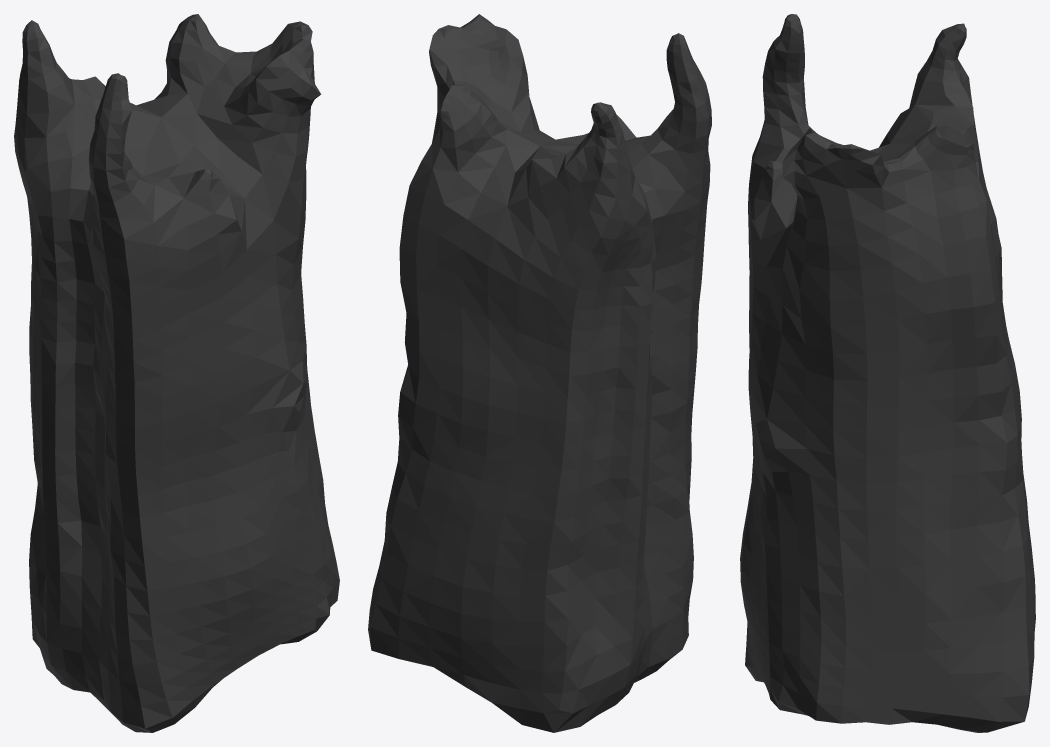
File: R_max_M1.glb
The picture shows the model from 3 angles, left to right: view 1: azimuth 30°, elevation 25°; view 2: azimuth 150°, elevation 25°; view 3: azimuth 270°, elevation 25°; orthographic projection. The views are drawn at different scales.
Visible parts, largest first — view 1: R_max_M1; view 2: R_max_M1; view 3: R_max_M1.
Part boxes in pixels (x1,y1,x2,y2): R_max_M1: (14, 14, 339, 732); R_max_M1: (368, 14, 711, 732); R_max_M1: (740, 14, 1035, 732).
Bounding box in the file's own units: 0.4627 × 1.11 × 0.4459.
Materials: 1 (1 with a texture image).
